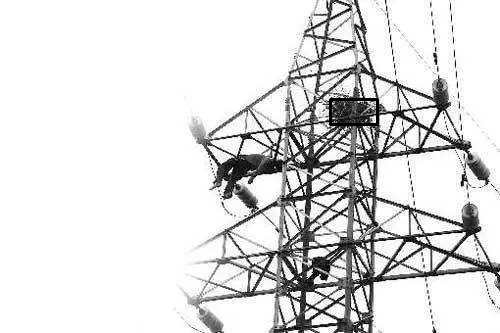bird-nest: (330, 99, 377, 124)
